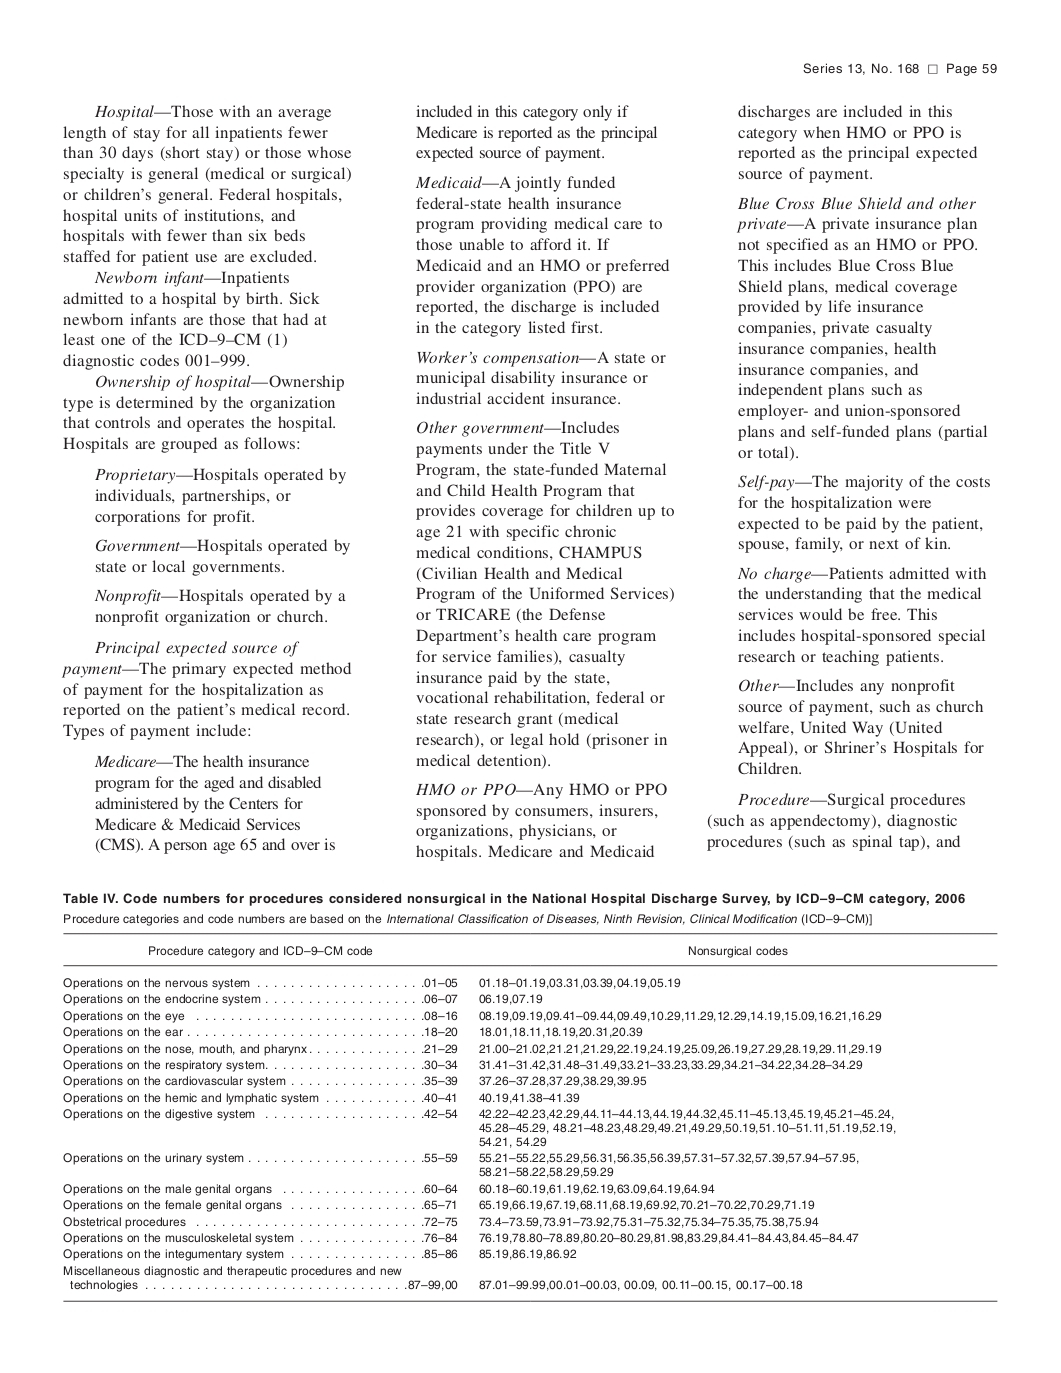Table: (64, 933, 997, 1301)
